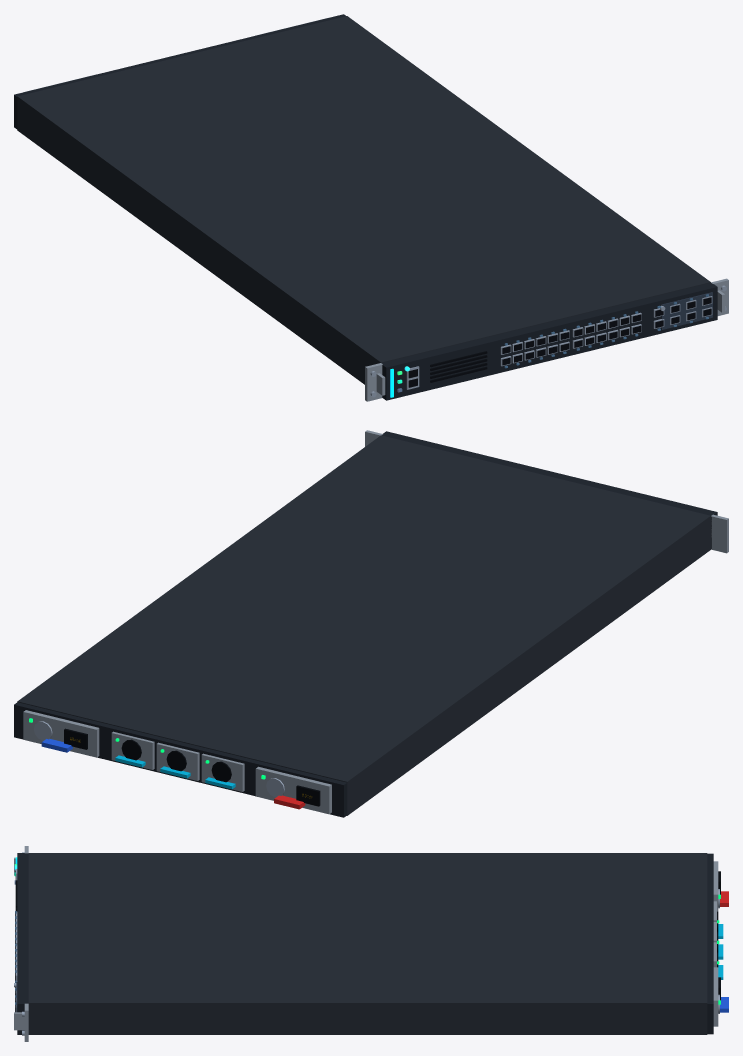
The model's file is cisco_catalyst_9300_24p.glb.
The picture shows the model from 3 angles, top to bottom: view 1: azimuth 30°, elevation 25°; view 2: azimuth 150°, elevation 25°; view 3: azimuth 270°, elevation 25°; orthographic projection. The views are drawn at different scales.
Parts seen in each view (by area): view 1: BATCH_MAT_CHASSIS_BODY, BATCH_MAT_FACEPLATE, BATCH_MAT_CAVITY_DARK, BATCH_MAT_PORT_SHIELD, BATCH_MAT_RACK_EAR, BATCH_MAT_NM_MODULE_BAY; view 2: BATCH_MAT_CHASSIS_BODY, BATCH_MAT_RACK_EAR, BATCH_MAT_FACEPLATE, BATCH_MAT_CAVITY_DARK; view 3: BATCH_MAT_CHASSIS_BODY, BATCH_MAT_FACEPLATE, BATCH_MAT_RACK_EAR, BATCH_MAT_CAVITY_DARK, BATCH_MAT_PORT_SHIELD.
Boxes of the visible parts, <box> form: BATCH_MAT_CHASSIS_BODY: <box>17,16,710,384</box>; BATCH_MAT_FACEPLATE: <box>14,14,717,400</box>; BATCH_MAT_CAVITY_DARK: <box>408,297,711,387</box>; BATCH_MAT_PORT_SHIELD: <box>370,285,726,397</box>; BATCH_MAT_RACK_EAR: <box>25,17,728,401</box>; BATCH_MAT_NM_MODULE_BAY: <box>661,292,712,329</box>; BATCH_MAT_CHASSIS_BODY: <box>17,435,710,815</box>; BATCH_MAT_RACK_EAR: <box>23,430,728,814</box>; BATCH_MAT_FACEPLATE: <box>14,431,717,817</box>; BATCH_MAT_CAVITY_DARK: <box>64,728,320,806</box>; BATCH_MAT_CHASSIS_BODY: <box>28,853,707,1034</box>; BATCH_MAT_FACEPLATE: <box>17,853,713,1034</box>; BATCH_MAT_RACK_EAR: <box>14,846,718,1041</box>; BATCH_MAT_CAVITY_DARK: <box>15,871,720,1012</box>; BATCH_MAT_PORT_SHIELD: <box>14,852,719,1035</box>.
Bounding box in the file's own units: 0.4826 × 0.0435 × 0.8851.
